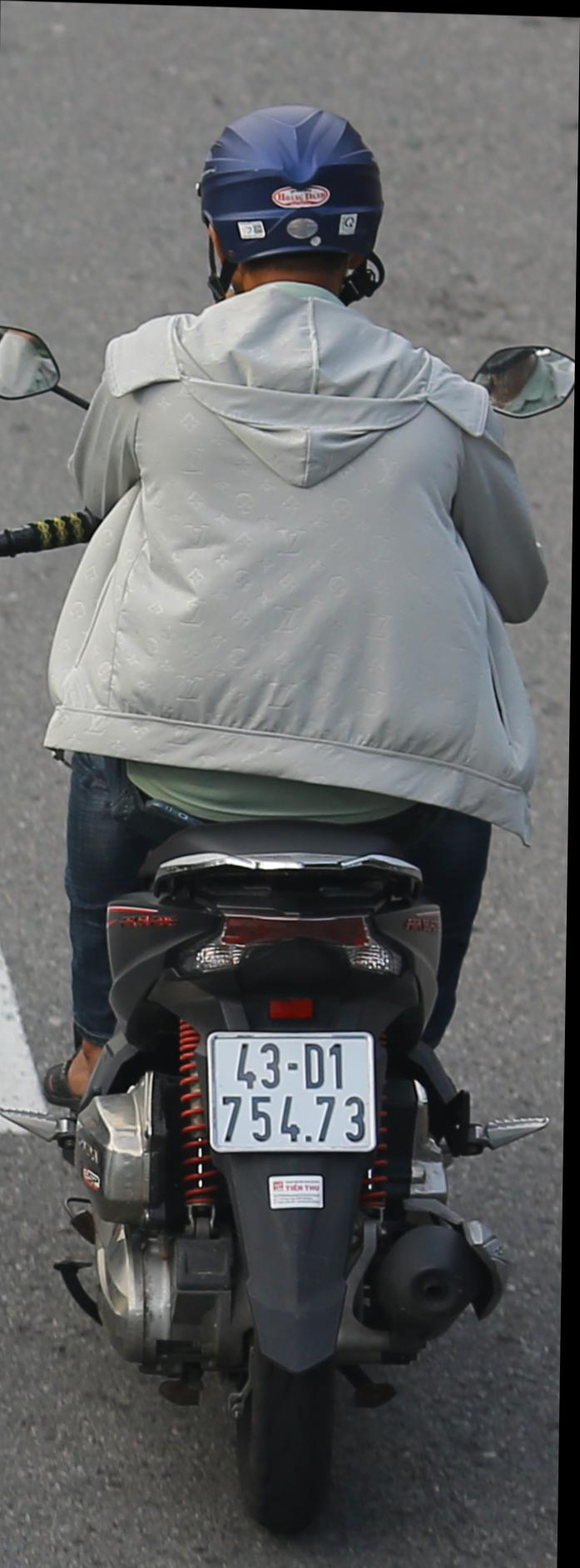LP: (198, 1019, 398, 1162)
helmet: (184, 75, 411, 351)
